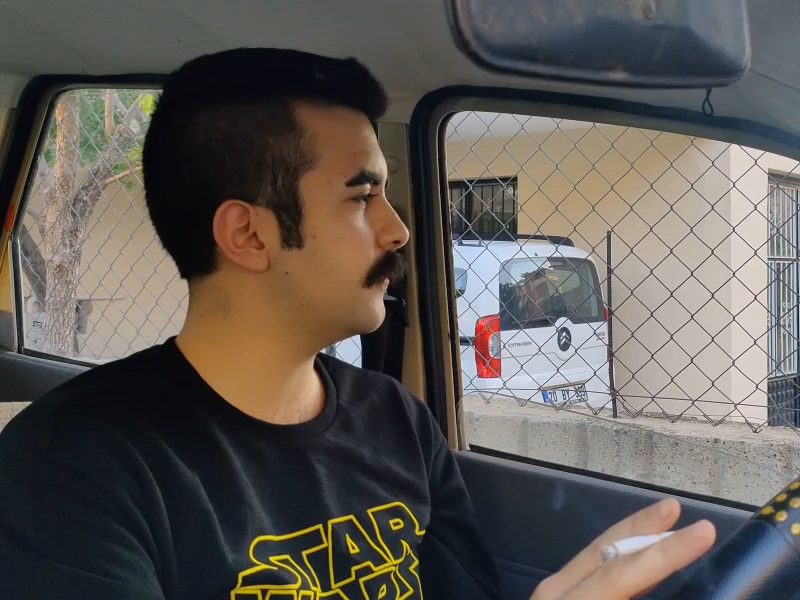sigara: (595, 527, 678, 564)
